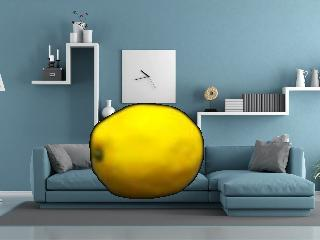lemon: (91, 104, 204, 198)
